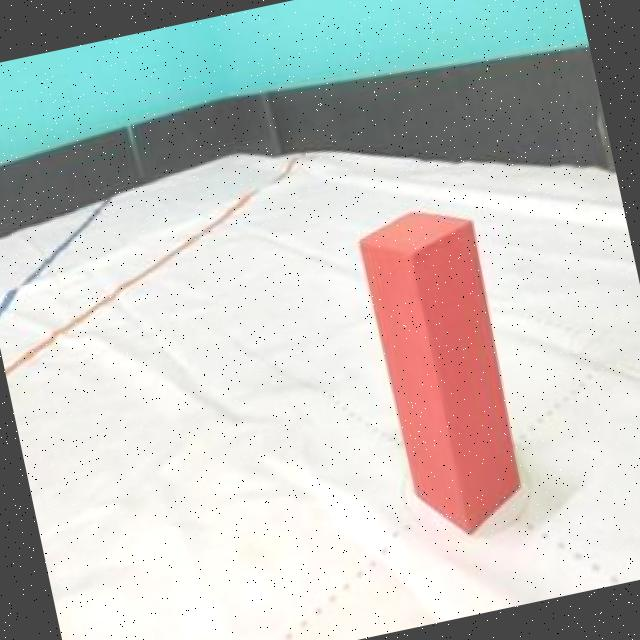redbox: (354, 198, 536, 543)
